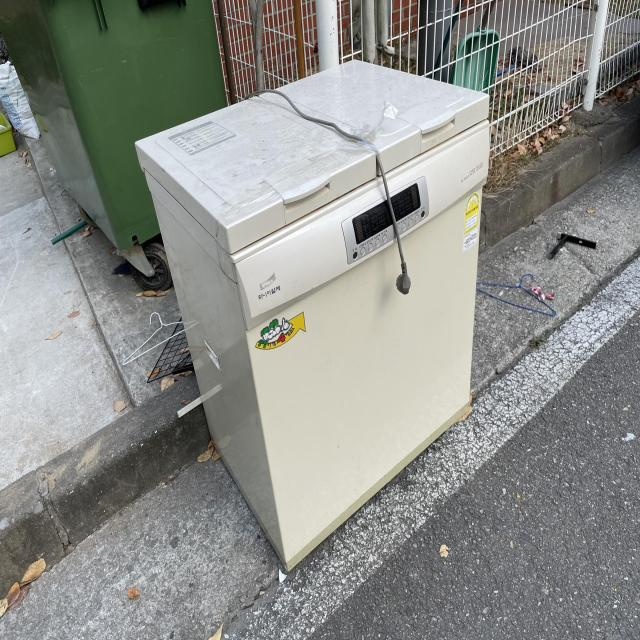refrigerator: (133, 57, 493, 576)
